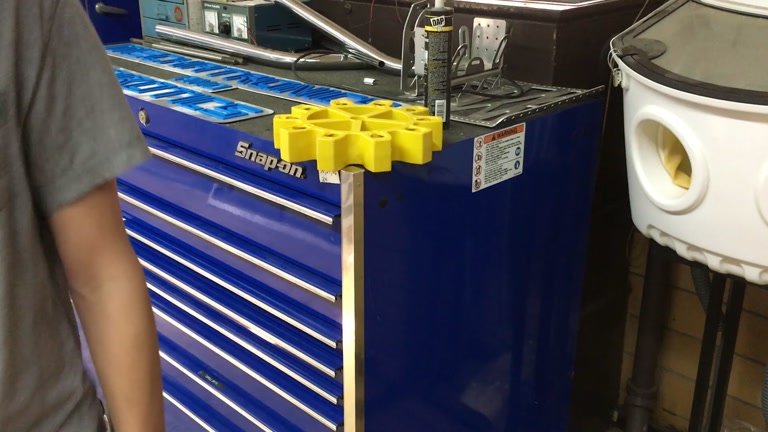gear: (272, 97, 443, 173)
